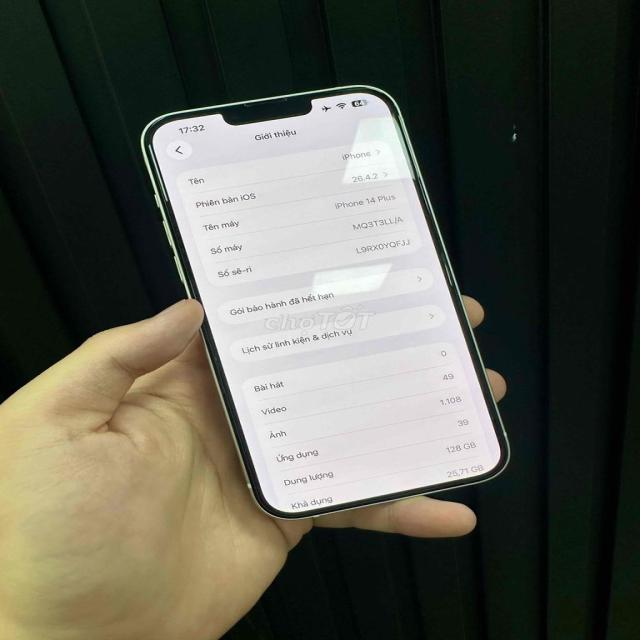gen_14: (136, 78, 511, 514)
